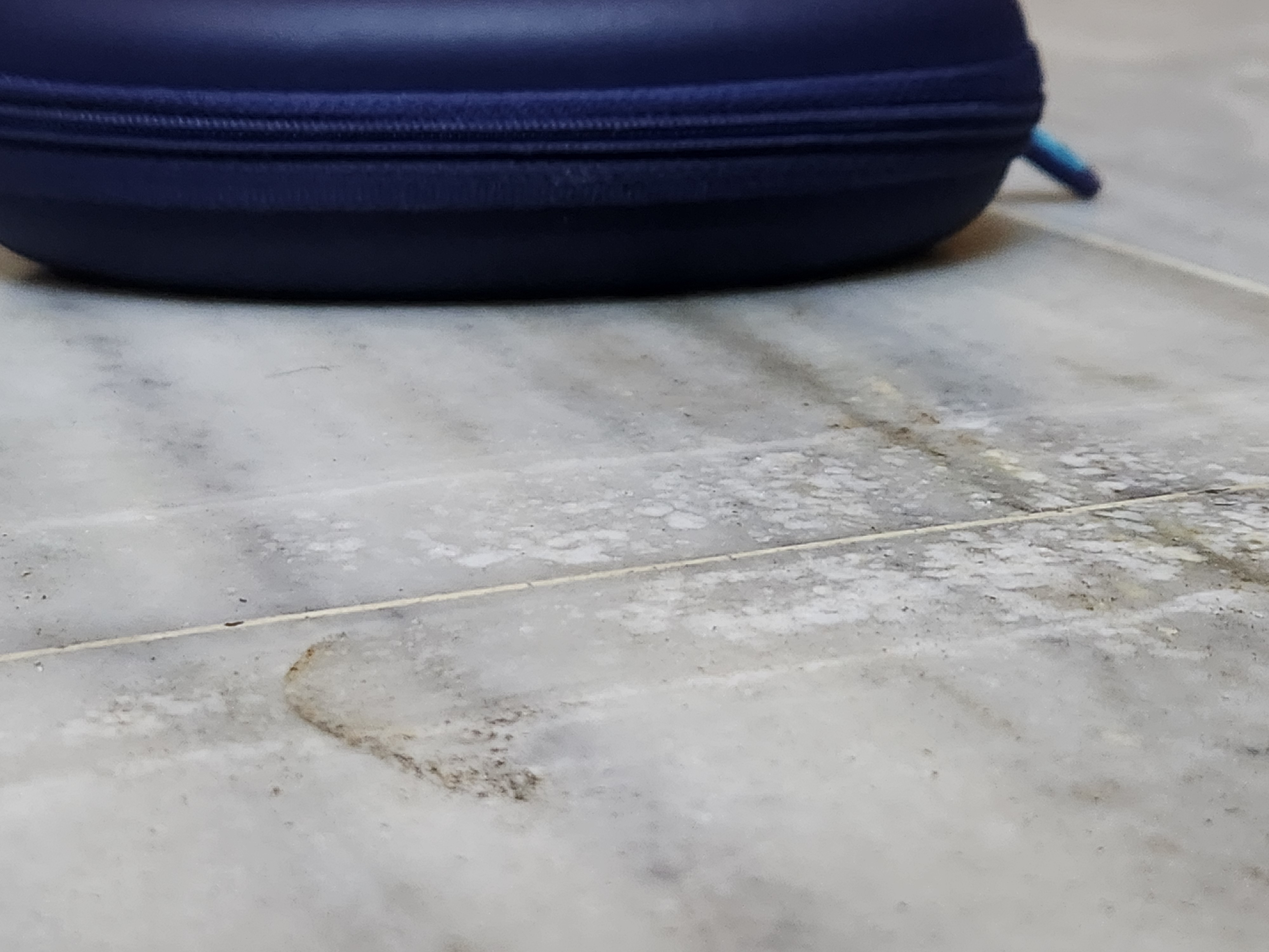case: (0, 2, 1106, 301)
